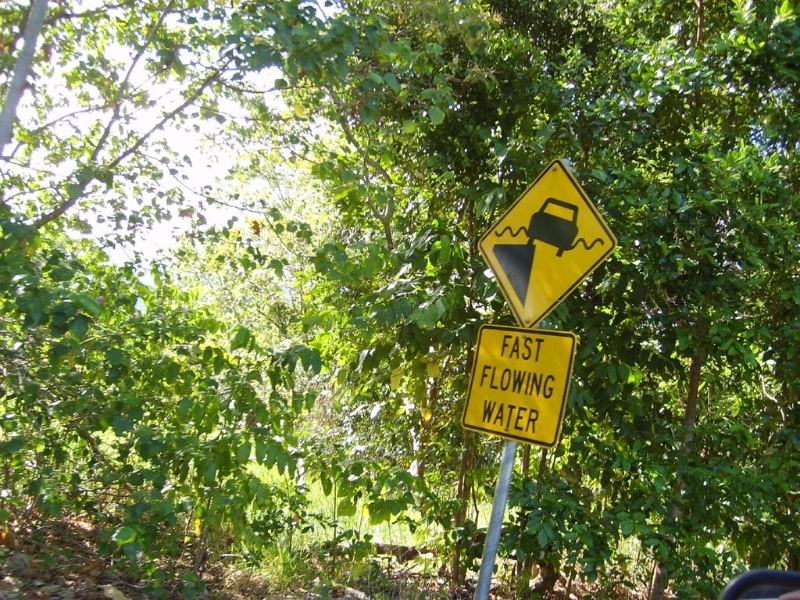cliff_edge: (476, 157, 623, 329)
